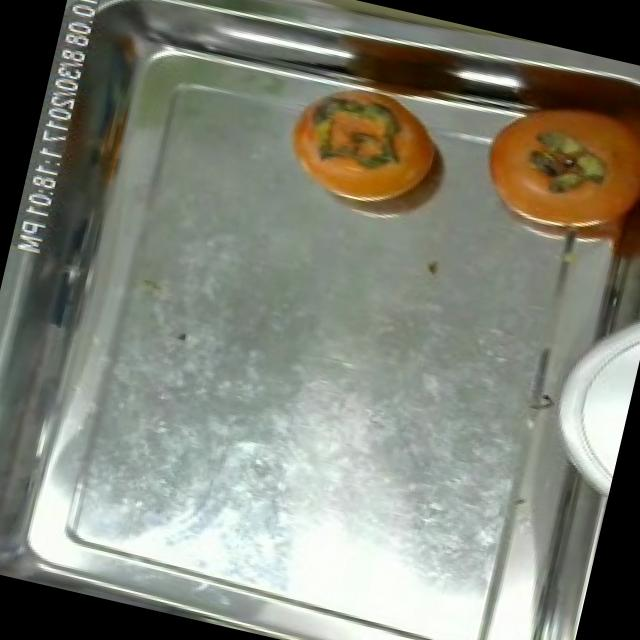Fruit: (448, 71, 640, 283), (262, 77, 468, 235)
